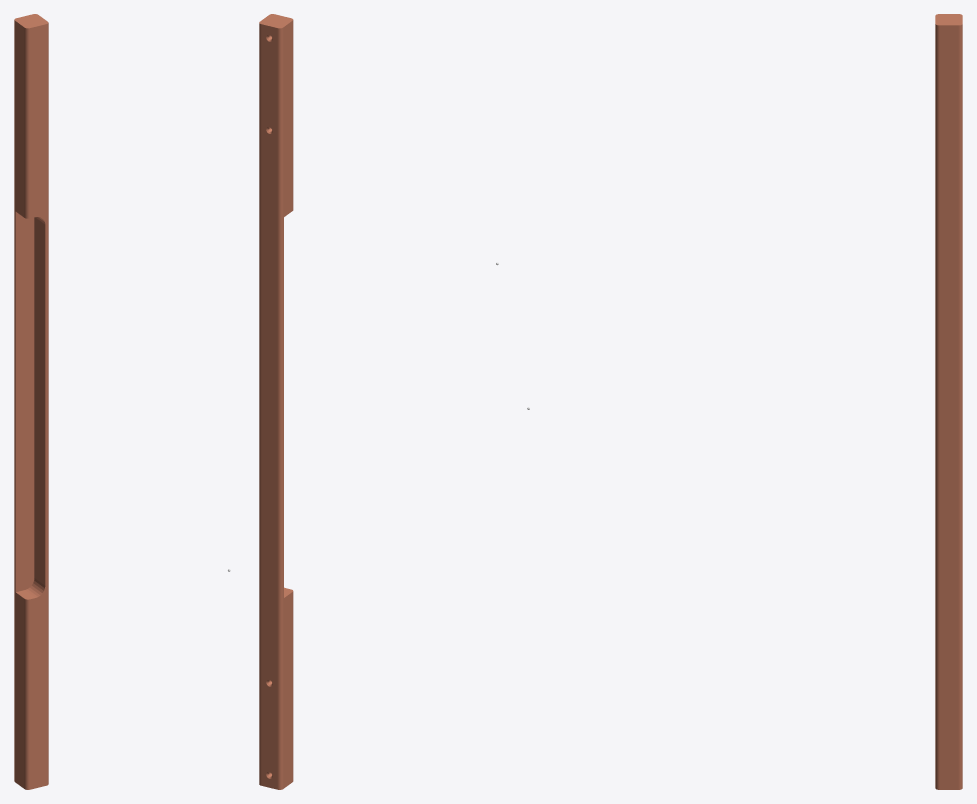
Rendered from cut.glb.
3 views of the same model, side by side, from view 1: azimuth 30°, elevation 25°; view 2: azimuth 150°, elevation 25°; view 3: azimuth 270°, elevation 25° (orthographic).
Parts seen in each view (by area): view 1: CABINET_HANDLE_124; view 2: CABINET_HANDLE_124; view 3: CABINET_HANDLE_124.
Part boxes in pixels (<box>): CABINET_HANDLE_124: <box>14,14,48,789</box>; CABINET_HANDLE_124: <box>259,14,293,789</box>; CABINET_HANDLE_124: <box>935,14,962,789</box>.
Size of the model in its own units: 0.35 by 10.33 by 5.33.
